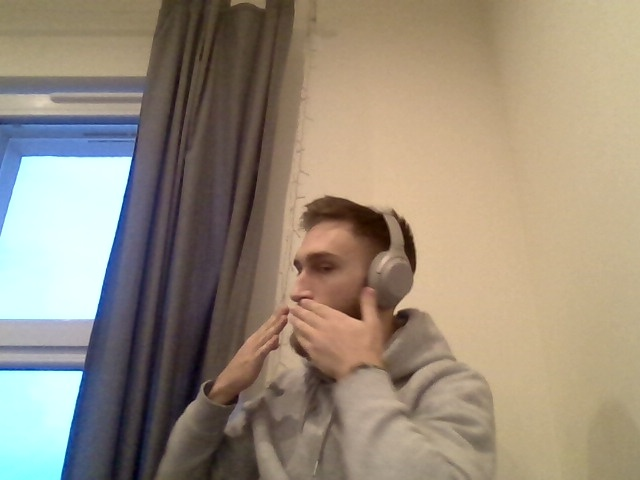ThankYou: (226, 286, 378, 389)
